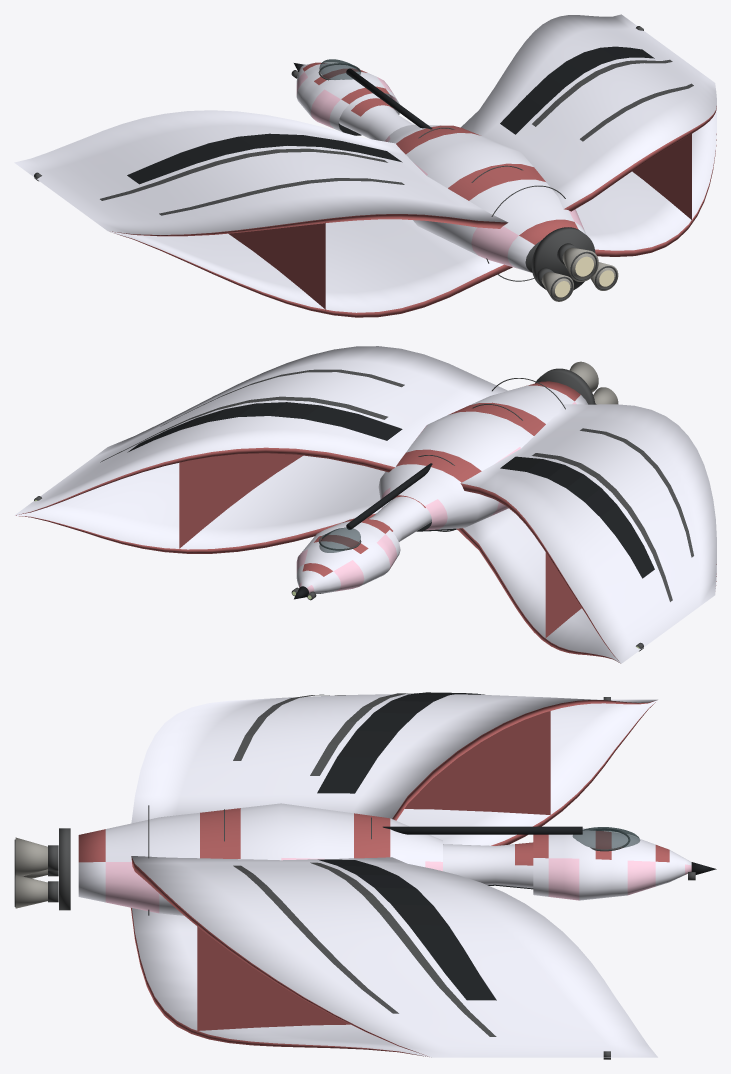
File: Ship_Talonhunter_960664.glb
3 renders of one model, top to bottom at view 1: azimuth 30°, elevation 25°; view 2: azimuth 150°, elevation 25°; view 3: azimuth 270°, elevation 25°, orthographic. The views are drawn at different scales.
Visible parts, largest first — view 1: WingUpper_Left_ForwardSweptCrescentPlate, WingUpper_Right_ForwardSweptCrescentPlate, WingLower_Right_ForwardSweptCrescentPlate.001, ReactorBody_AftOvalCore, WingLower_Right_ForwardSweptCrescentPlate, WingMidRib_Left_OpenGapSupportStrut, CommandHead_BeakedForwardPod, PaintCommandSpineEcho_Left_UpperInnerSweep, PaintCommandSpineEcho_Right_UpperInnerSweep, WingMidRib_Right_OpenGapSupportStrut, CommandNeck_NarrowForwardSpine, EngineDeck_AftCompactMountPlate (+8 smaller); view 2: WingUpper_Left_ForwardSweptCrescentPlate, WingUpper_Right_ForwardSweptCrescentPlate, WingLower_Right_ForwardSweptCrescentPlate, ReactorBody_AftOvalCore, WingLower_Right_ForwardSweptCrescentPlate.001, CommandHead_BeakedForwardPod, WingMidRib_Right_OpenGapSupportStrut, PaintCommandSpineEcho_Left_UpperInnerSweep, PaintCommandSpineEcho_Right_UpperInnerSweep, CommandNeck_NarrowForwardSpine, WingMidRib_Left_OpenGapSupportStrut, WingPanelLine_Left_Upper_PrimaryCurvedSpar (+6 smaller); view 3: WingUpper_Right_ForwardSweptCrescentPlate, WingUpper_Left_ForwardSweptCrescentPlate, ReactorBody_AftOvalCore, WingLower_Right_ForwardSweptCrescentPlate, WingLower_Right_ForwardSweptCrescentPlate.001, WingMidRib_Left_OpenGapSupportStrut, CommandHead_BeakedForwardPod, WingMidRib_Right_OpenGapSupportStrut, PaintCommandSpineEcho_Right_UpperInnerSweep, PaintCommandSpineEcho_Left_UpperInnerSweep, CommandNeck_NarrowForwardSpine, WingPanelLine_Right_Upper_PrimaryCurvedSpar (+8 smaller).
Boxes of the visible parts, left/top/right/bottom form: WingUpper_Left_ForwardSweptCrescentPlate: left=14, top=110, right=508, bottom=236; WingUpper_Right_ForwardSweptCrescentPlate: left=461, top=14, right=716, bottom=211; WingLower_Right_ForwardSweptCrescentPlate.001: left=109, top=219, right=512, bottom=317; ReactorBody_AftOvalCore: left=385, top=124, right=586, bottom=272; WingLower_Right_ForwardSweptCrescentPlate: left=576, top=109, right=716, bottom=256; WingMidRib_Left_OpenGapSupportStrut: left=228, top=222, right=325, bottom=310; CommandHead_BeakedForwardPod: left=296, top=62, right=399, bottom=135; PaintCommandSpineEcho_Left_UpperInnerSweep: left=127, top=133, right=402, bottom=184; PaintCommandSpineEcho_Right_UpperInnerSweep: left=500, top=46, right=654, bottom=134; WingMidRib_Right_OpenGapSupportStrut: left=632, top=132, right=691, bottom=221; CommandNeck_NarrowForwardSpine: left=339, top=93, right=413, bottom=141; EngineDeck_AftCompactMountPlate: left=531, top=227, right=595, bottom=290; WingUpper_Left_ForwardSweptCrescentPlate: left=460, top=404, right=716, bottom=663; WingUpper_Right_ForwardSweptCrescentPlate: left=14, top=346, right=508, bottom=515; WingLower_Right_ForwardSweptCrescentPlate: left=15, top=455, right=385, bottom=553; ReactorBody_AftOvalCore: left=378, top=381, right=587, bottom=531; WingLower_Right_ForwardSweptCrescentPlate.001: left=456, top=508, right=716, bottom=663; CommandHead_BeakedForwardPod: left=296, top=518, right=400, bottom=593; WingMidRib_Right_OpenGapSupportStrut: left=179, top=453, right=302, bottom=548; PaintCommandSpineEcho_Left_UpperInnerSweep: left=500, top=456, right=654, bottom=578; PaintCommandSpineEcho_Right_UpperInnerSweep: left=127, top=402, right=402, bottom=452; CommandNeck_NarrowForwardSpine: left=369, top=495, right=431, bottom=541; WingMidRib_Left_OpenGapSupportStrut: left=545, top=553, right=581, bottom=637; WingPanelLine_Left_Upper_PrimaryCurvedSpar: left=532, top=453, right=672, bottom=601; WingUpper_Right_ForwardSweptCrescentPlate: left=131, top=856, right=657, bottom=1057; WingUpper_Left_ForwardSweptCrescentPlate: left=131, top=694, right=657, bottom=823; ReactorBody_AftOvalCore: left=78, top=803, right=442, bottom=915; WingLower_Right_ForwardSweptCrescentPlate: left=131, top=908, right=431, bottom=1057; WingLower_Right_ForwardSweptCrescentPlate.001: left=396, top=700, right=657, bottom=845; WingMidRib_Left_OpenGapSupportStrut: left=404, top=711, right=550, bottom=814; CommandHead_BeakedForwardPod: left=533, top=828, right=691, bottom=900; WingMidRib_Right_OpenGapSupportStrut: left=197, top=925, right=350, bottom=1032; PaintCommandSpineEcho_Right_UpperInnerSweep: left=318, top=859, right=496, bottom=1000; PaintCommandSpineEcho_Left_UpperInnerSweep: left=317, top=692, right=484, bottom=793; CommandNeck_NarrowForwardSpine: left=443, top=842, right=533, bottom=889; WingPanelLine_Right_Upper_PrimaryCurvedSpar: left=310, top=862, right=496, bottom=1036.
Size of the model in its own units: 8.3 by 1.43 by 6.89.
